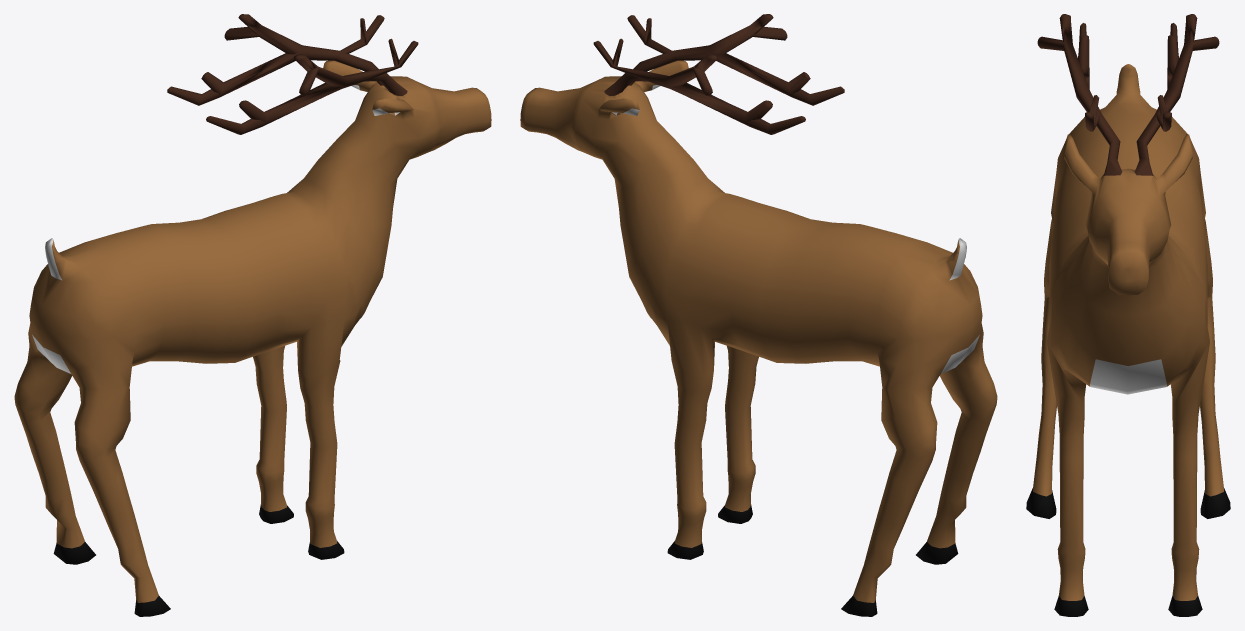
The model's file is Deer.fbx.
3 views of the same model, side by side, from view 1: azimuth 30°, elevation 25°; view 2: azimuth 150°, elevation 25°; view 3: azimuth 270°, elevation 25° (orthographic). The views are drawn at different scales.
Parts seen in each view (by area): view 1: Deer; view 2: Deer; view 3: Deer.
Boxes of the visible parts, box(x1,y1,x2,y2) form: Deer: box(14, 14, 491, 616); Deer: box(520, 14, 997, 616); Deer: box(1026, 14, 1230, 616).
Size of the model in its own units: 208 by 228 by 72.23.
